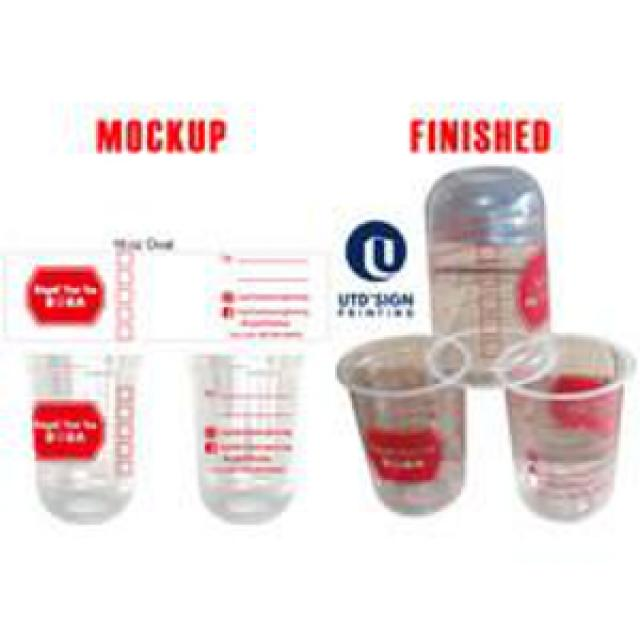plastic cup: (424, 162, 557, 397), (490, 328, 640, 533), (331, 335, 474, 520), (17, 346, 156, 531), (175, 346, 314, 527)
